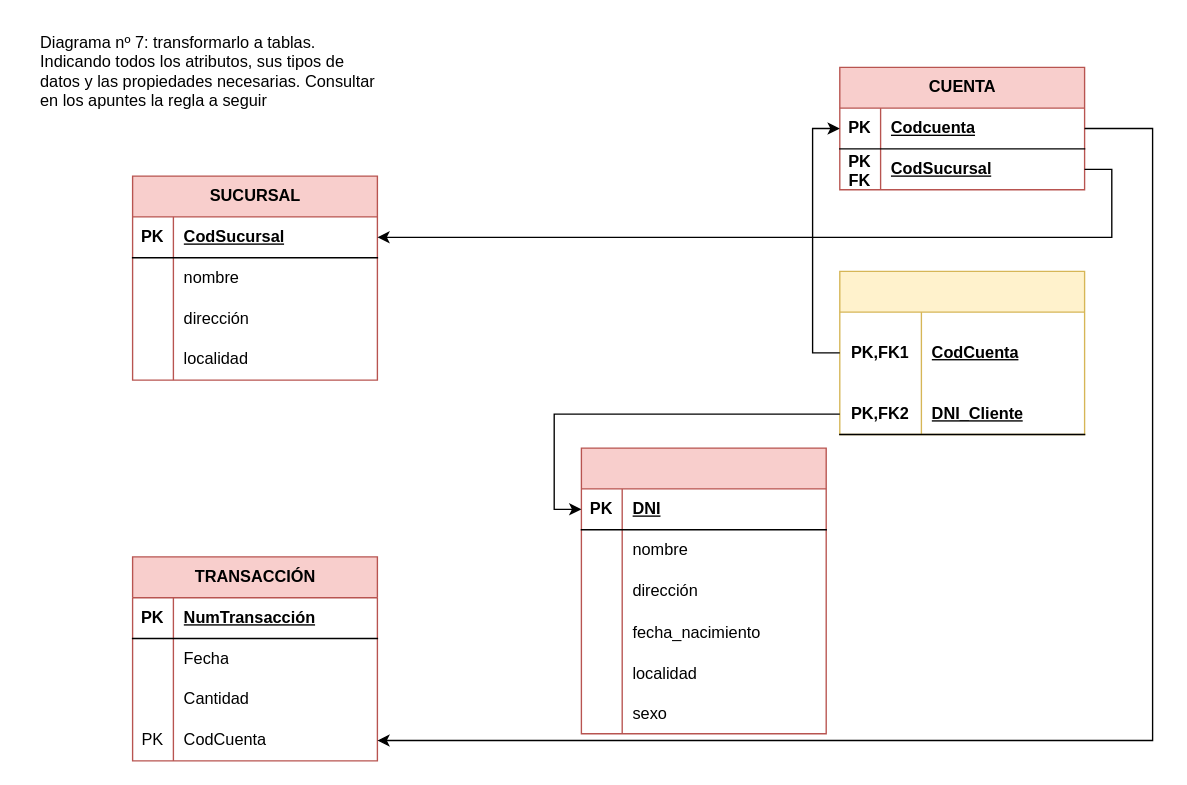
Image size: 1187x785. Some labels were removed from this diagram. The shapes that lost their labels are listed below. From the top down, each one's box as (x1, y1, x2, y2) in pixels, then its label:
(838, 270, 1085, 435): CUENTA_CLIENTE
(580, 447, 826, 734): CLIENTE
